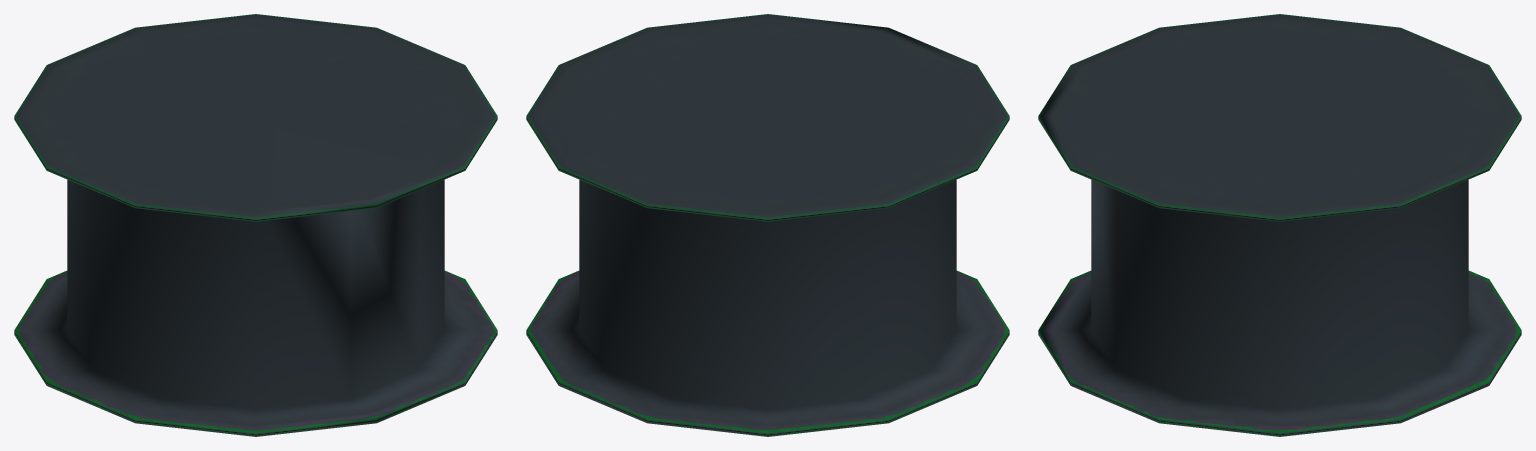
Rendered from spouting-column-unit-tripo-original.glb.
3 renders of one model, left to right at view 1: azimuth 30°, elevation 25°; view 2: azimuth 150°, elevation 25°; view 3: azimuth 270°, elevation 25°, orthographic.
Parts seen in each view (by area): view 1: Authored_surface; view 2: Authored_surface; view 3: Authored_surface.
Boxes of the visible parts, x1=… form: Authored_surface: x1=14, y1=14, x2=497, y2=436; Authored_surface: x1=526, y1=14, x2=1009, y2=436; Authored_surface: x1=1038, y1=14, x2=1521, y2=436.
Size of the model in its own units: 1 by 0.5 by 1.
Materials: 1 (1 with a texture image).
